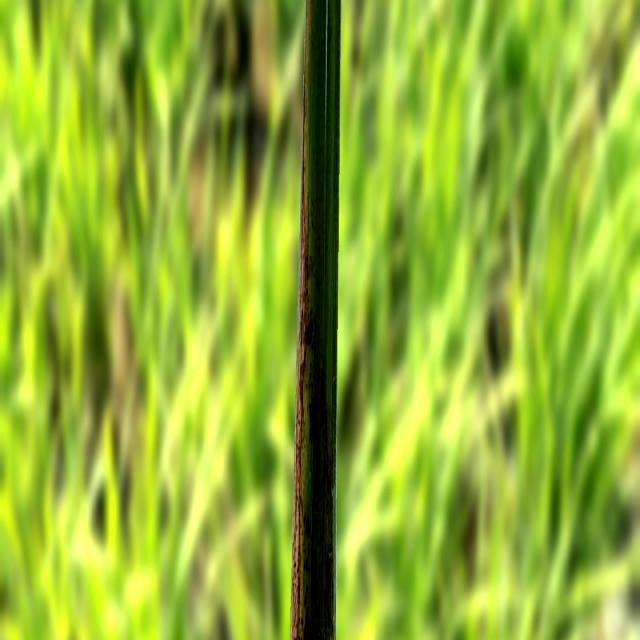BLB: (290, 0, 312, 640)
